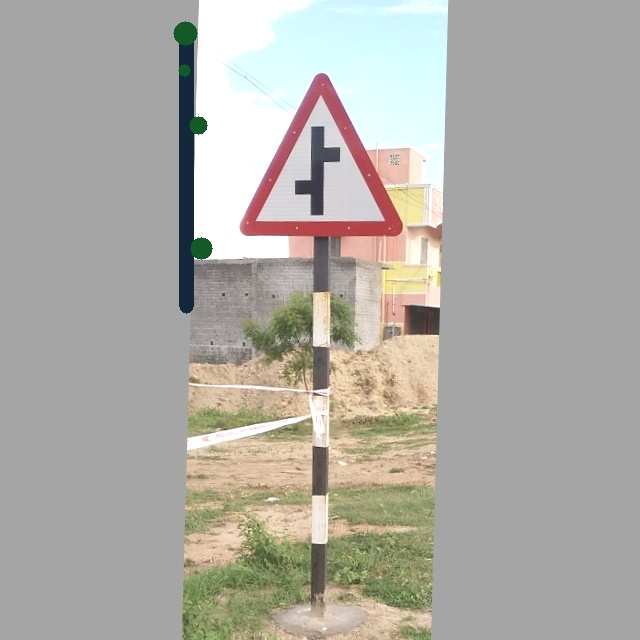Staggered_Intersection: (239, 61, 412, 248)
